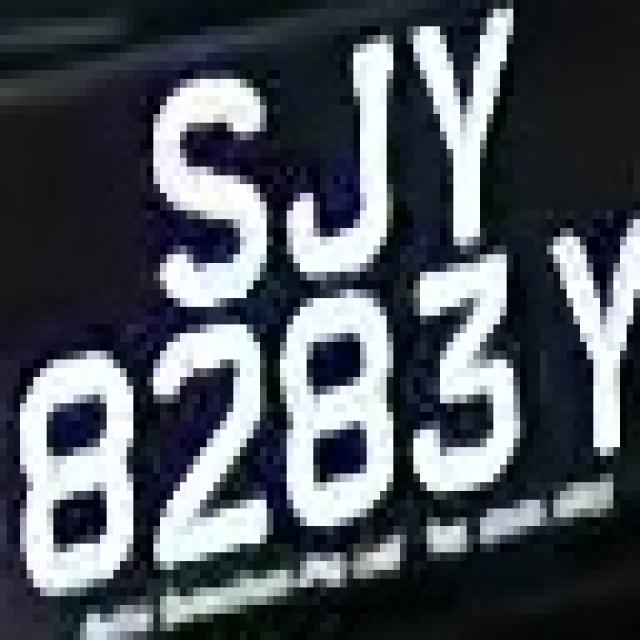2: (153, 298, 280, 579)
3: (400, 228, 513, 552)
8: (246, 263, 426, 570), (0, 324, 160, 614)
J: (280, 26, 407, 298)
S: (120, 44, 273, 351)
Y: (394, 9, 554, 254), (543, 221, 640, 462), (5, 3, 7, 7)
